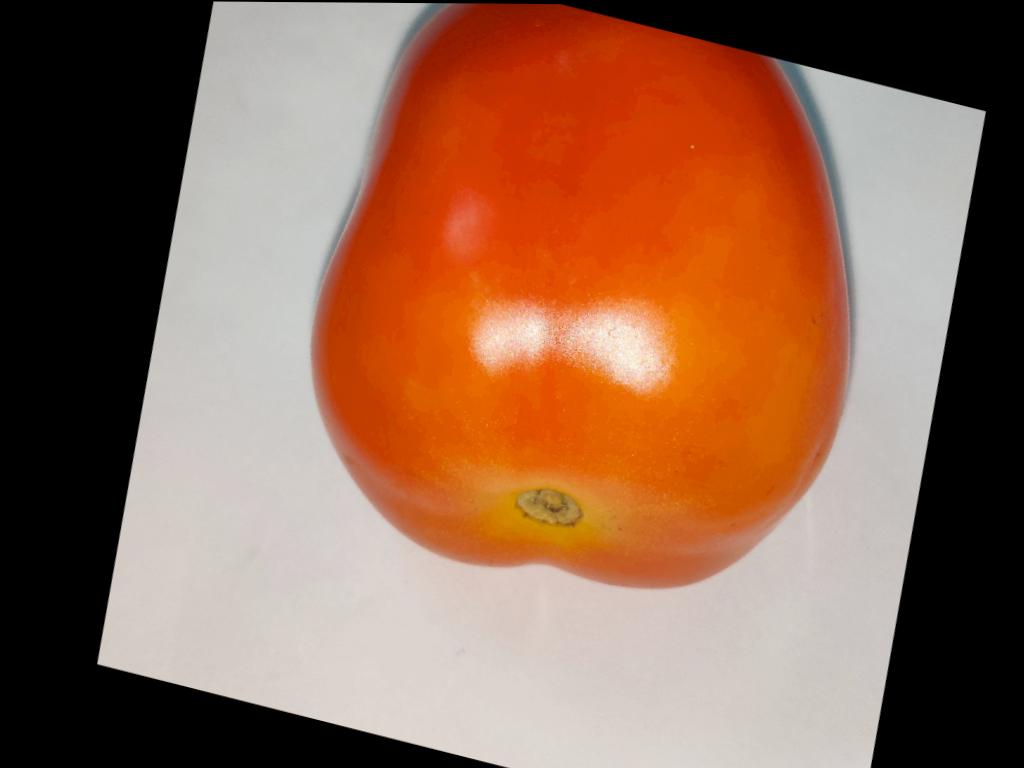tomato: (311, 3, 847, 587)
